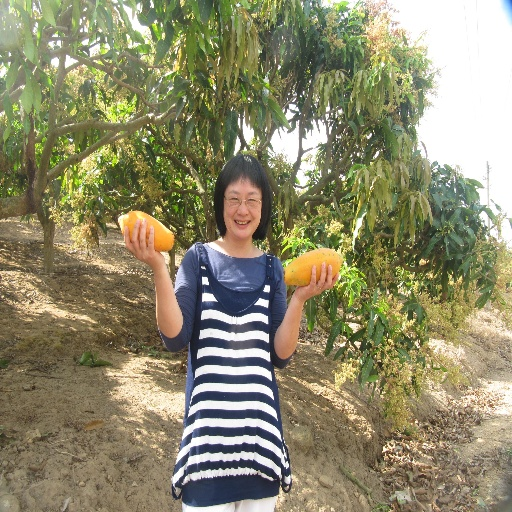hand: (282, 245, 344, 314), (121, 216, 166, 273)
